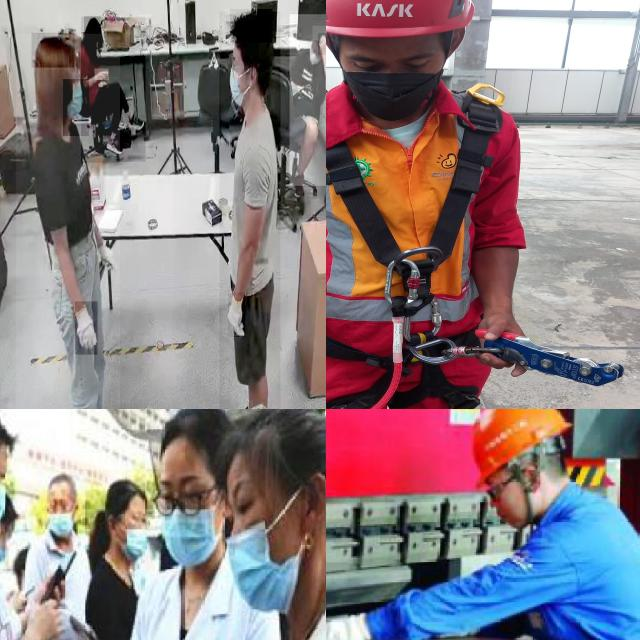Harness: (326, 87, 507, 409)
No_Ear-Protection: (520, 464, 542, 496)
face_mask: (226, 482, 288, 608), (158, 457, 221, 577), (112, 499, 150, 562), (63, 79, 89, 136), (44, 488, 73, 539), (220, 66, 248, 117), (0, 452, 11, 534)
face_nomask: (490, 486, 528, 528)
glasses: (150, 484, 216, 521)
hand_glove: (75, 302, 98, 356), (326, 615, 369, 640), (228, 292, 246, 338)
hand_noglove: (25, 597, 59, 640), (36, 570, 66, 600), (317, 33, 326, 56), (95, 68, 109, 81)
head_helmet: (473, 409, 570, 487)
head_nohelmet: (221, 412, 326, 483), (139, 409, 226, 461), (31, 33, 75, 68), (230, 9, 273, 43), (95, 479, 147, 506), (38, 466, 75, 496), (84, 16, 102, 33), (312, 26, 326, 41)
person: (15, 33, 120, 409), (130, 409, 274, 640), (208, 411, 326, 640), (219, 11, 280, 409), (82, 469, 156, 640), (28, 455, 91, 640), (81, 17, 146, 163), (289, 14, 326, 186)
